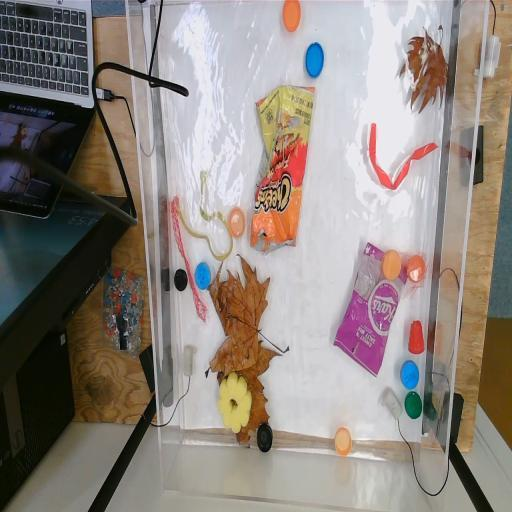Bottle Cap: (305, 40, 325, 79), (381, 248, 402, 282), (282, 0, 302, 32), (400, 360, 420, 390), (229, 206, 246, 239), (406, 254, 426, 282), (256, 424, 274, 454), (334, 428, 353, 456), (404, 391, 422, 420), (194, 261, 211, 290), (174, 268, 188, 292)
Cone Cap: (408, 319, 426, 355)
Leaf: (209, 252, 290, 378), (204, 338, 282, 450), (398, 24, 452, 116)
Netting: (169, 192, 210, 326), (398, 248, 430, 300)
Plastic Bag: (249, 83, 316, 256), (333, 240, 409, 381)
Plastic Strand: (176, 168, 234, 262), (368, 120, 439, 192)
Sponge: (217, 372, 252, 434)
